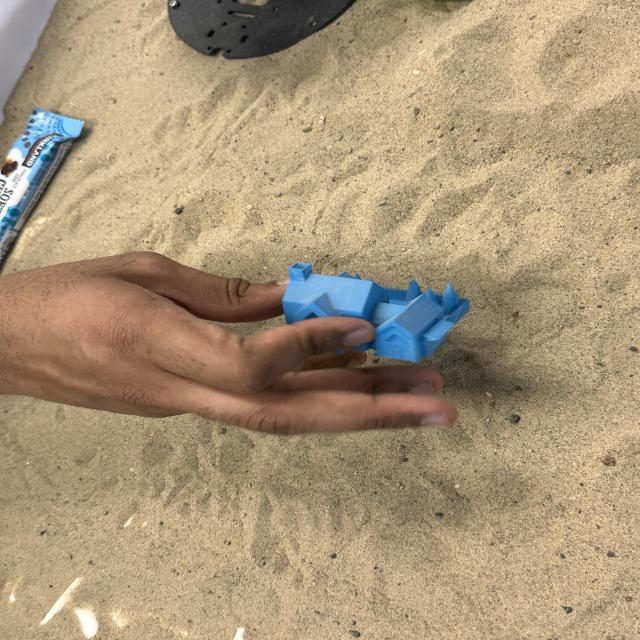house: (279, 261, 471, 364)
